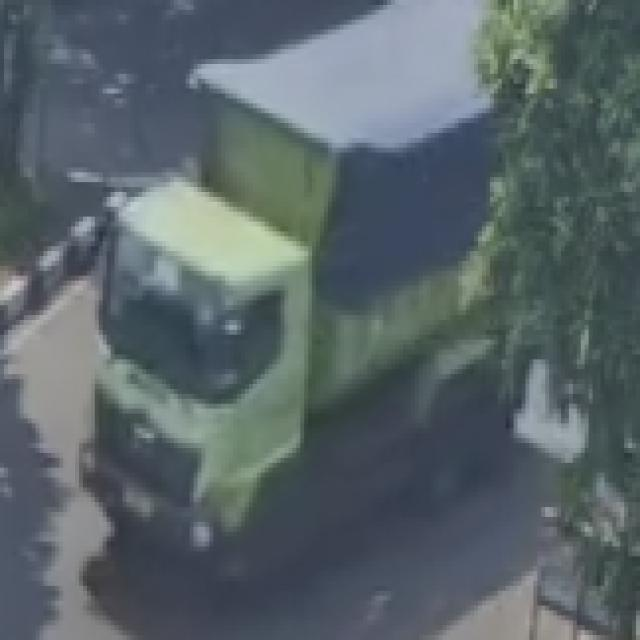truck: (73, 70, 362, 600)
